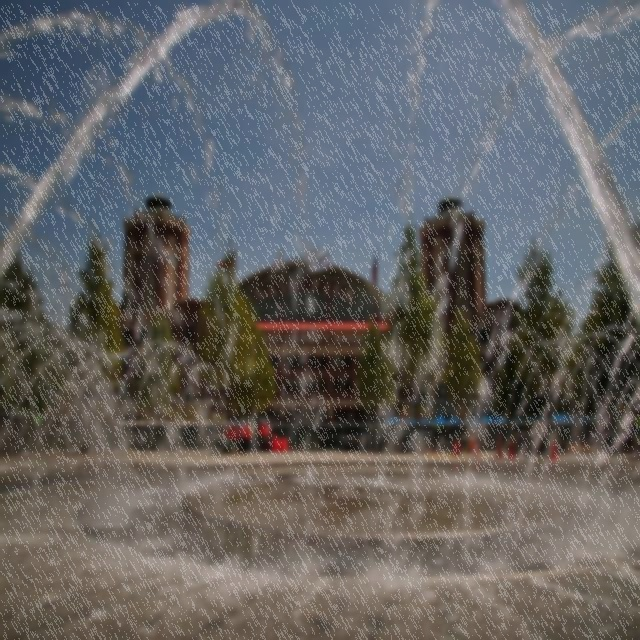pessoa: (264, 416, 274, 451), (256, 415, 265, 452), (243, 420, 252, 453), (226, 417, 234, 453), (221, 416, 230, 448), (249, 416, 256, 453), (239, 417, 245, 452), (234, 418, 240, 452), (264, 430, 270, 450)
